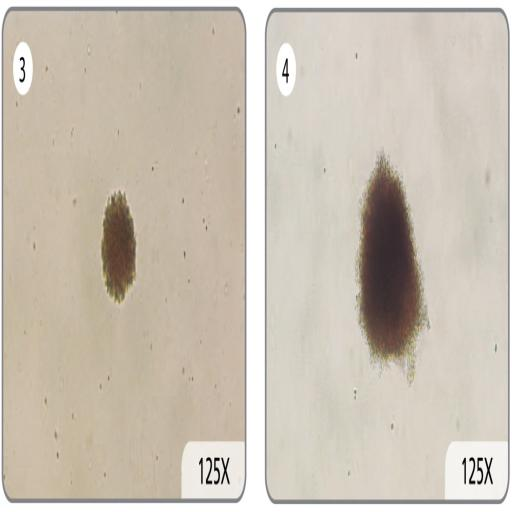CFU-E: (356, 151, 427, 361), (101, 190, 136, 303)
